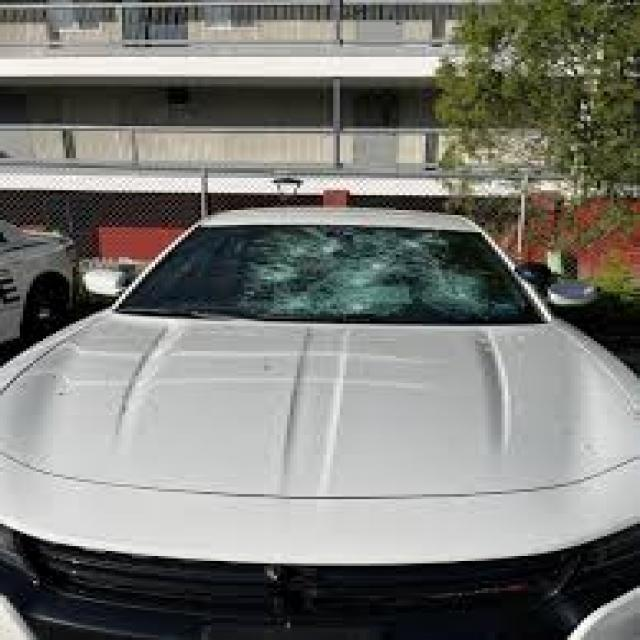damaged-windscreen: (112, 218, 564, 326)
